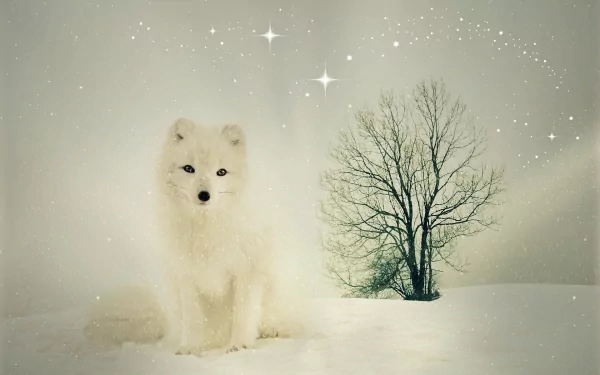arcticfox: (169, 143, 237, 223)
